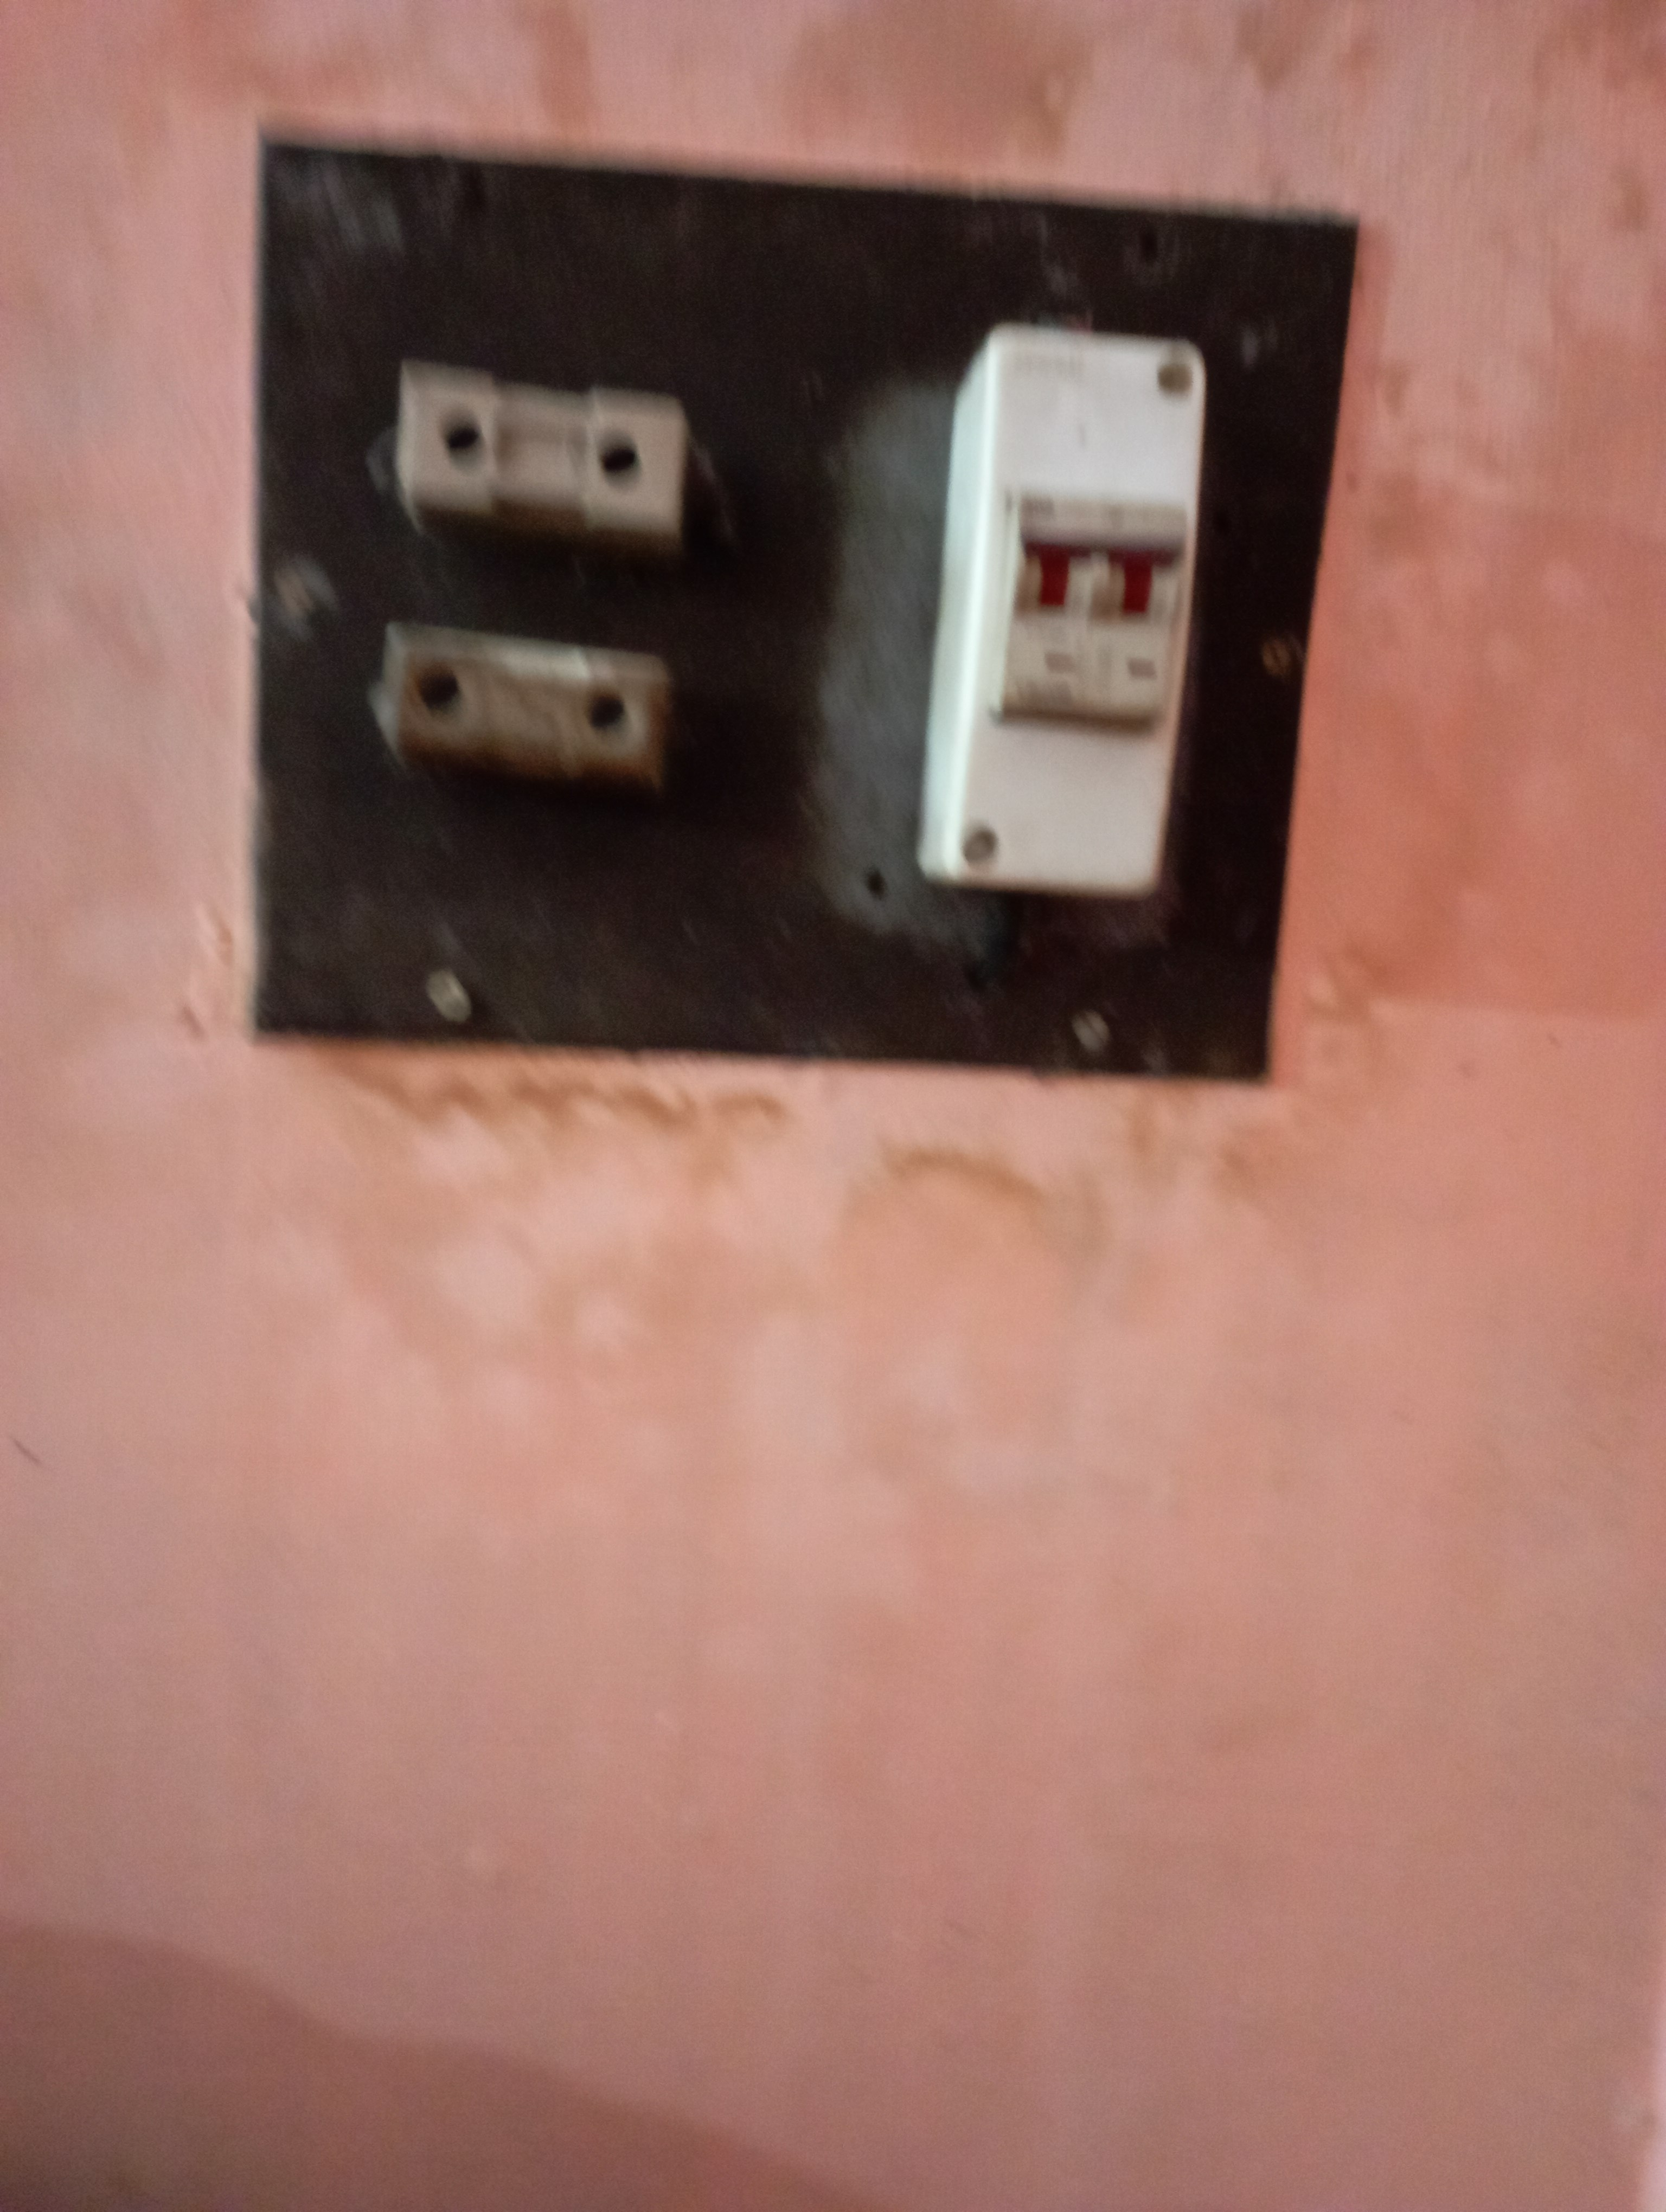ciruit_breaker: (912, 290, 1193, 948)
fuse: (375, 344, 696, 547), (375, 600, 705, 775)
